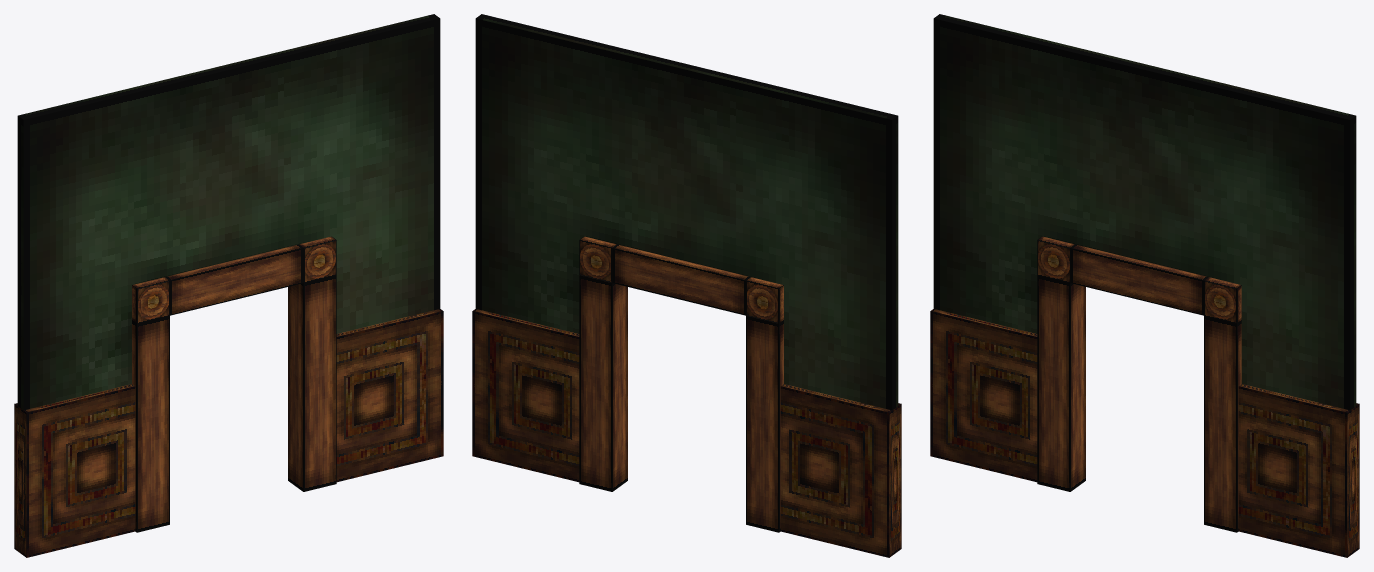
The model's file is Wall Segment 2 Door 1.fbx.
The picture shows the model from 3 angles, left to right: view 1: azimuth 30°, elevation 25°; view 2: azimuth 150°, elevation 25°; view 3: azimuth 330°, elevation 25°; orthographic projection.
Parts seen in each view (by area): view 1: Wall, Door Frame 1, Wall Decoration 1, Wall Decoration 2; view 2: Wall, Door Frame 1, Wall Decoration 1, Wall Decoration 2; view 3: Wall, Door Frame 1, Wall Decoration 2, Wall Decoration 1.
Part boxes in pixels (box(x1,y1,x2,y2)): Wall: box(17, 14, 440, 410); Door Frame 1: box(132, 236, 336, 532); Wall Decoration 1: box(14, 384, 135, 557); Wall Decoration 2: box(336, 309, 443, 482); Wall: box(475, 14, 898, 410); Door Frame 1: box(579, 236, 783, 532); Wall Decoration 1: box(780, 384, 901, 557); Wall Decoration 2: box(472, 309, 579, 482); Wall: box(933, 14, 1356, 410); Door Frame 1: box(1037, 236, 1241, 532); Wall Decoration 2: box(1238, 384, 1359, 557); Wall Decoration 1: box(930, 309, 1037, 482).
Size of the model in its own units: 501 by 500 by 32.68.
